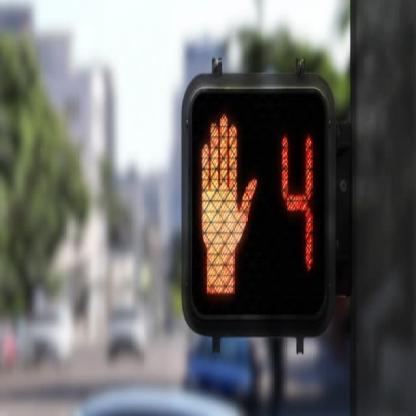Don-t Walk: (183, 76, 270, 326)
